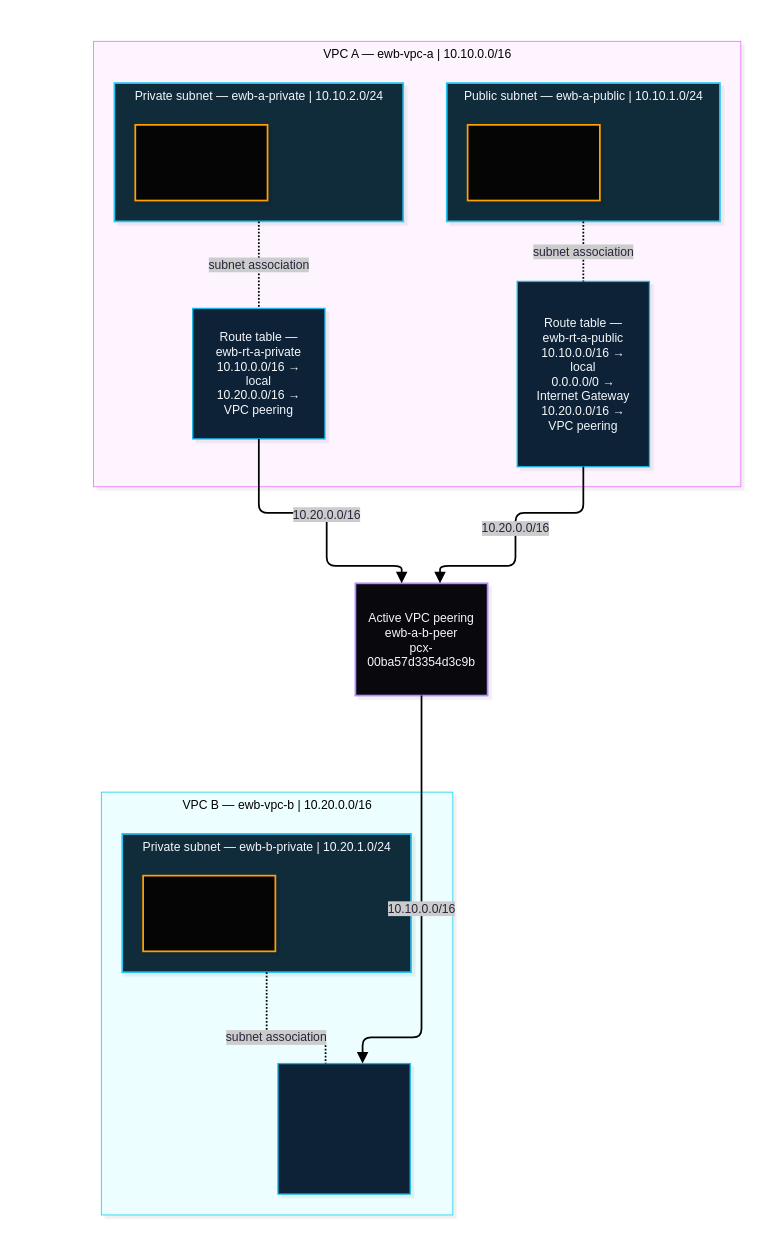
Image size: 760x1234. Some labels were removed from this diagram. Each missing label, with the centre of its shape:
"App-A — ewb-app-a 10.10.2.10" belongs at point 202,164.
"App-B — ewb-app-b 10.20.1.10" belongs at point 210,914.
"Bastion — ewb-bastion 10.10.1.10" belongs at point 535,164.
"Route table — ewb-rt-b-private 10.20.0.0/16 → local 10.10.0.0/16 → VPC peering" belongs at point 345,1130.
